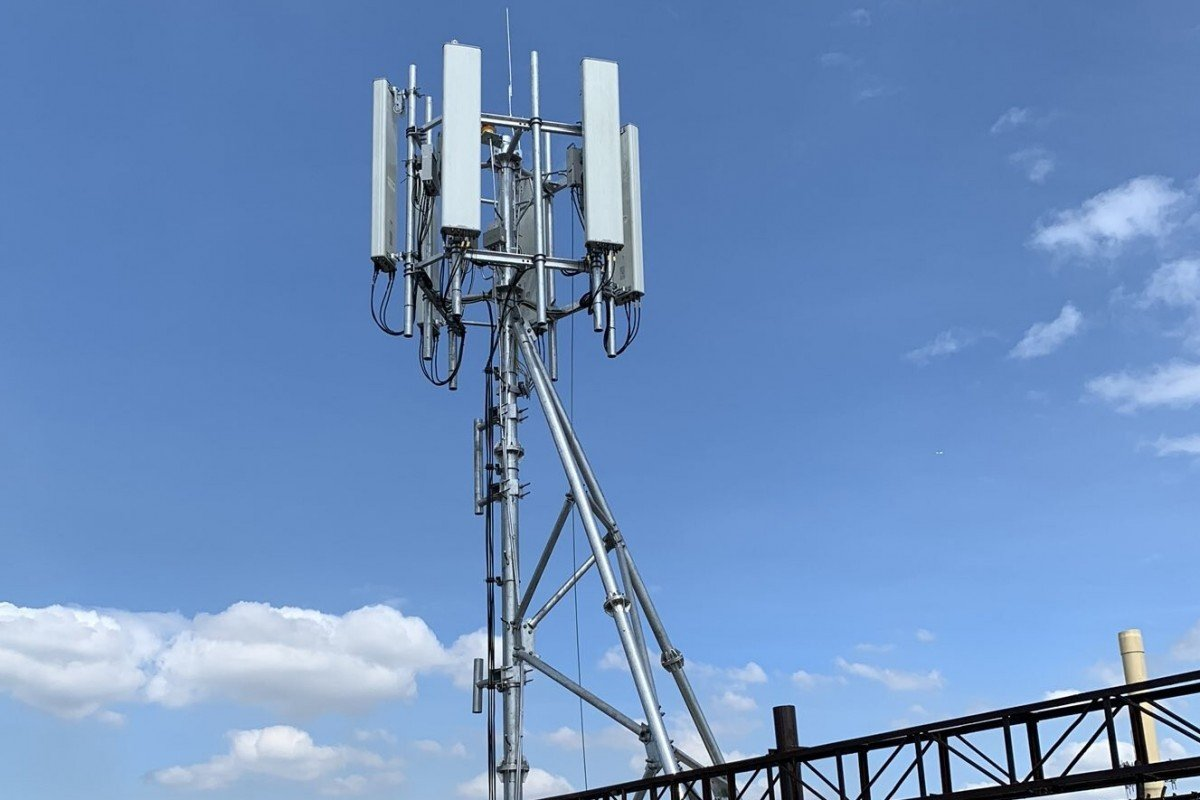sa: (421, 32, 494, 272), (554, 57, 623, 287), (352, 62, 414, 302), (607, 116, 660, 327)
